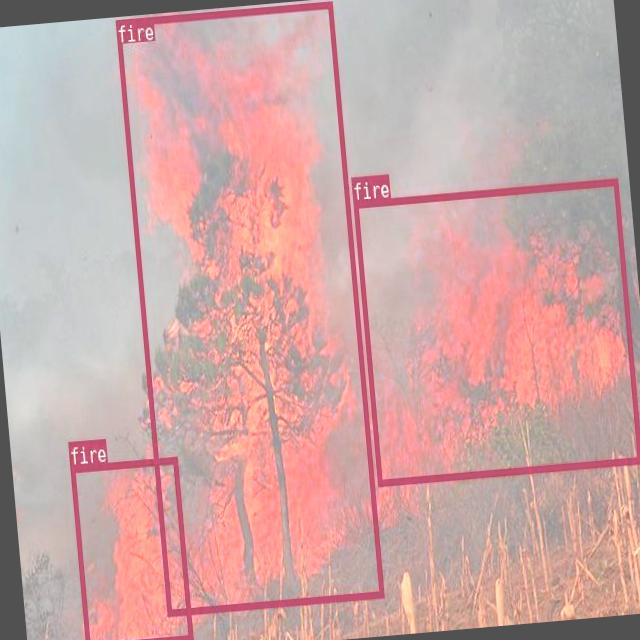fire: (115, 0, 382, 615), (351, 176, 640, 484), (69, 455, 192, 640)
